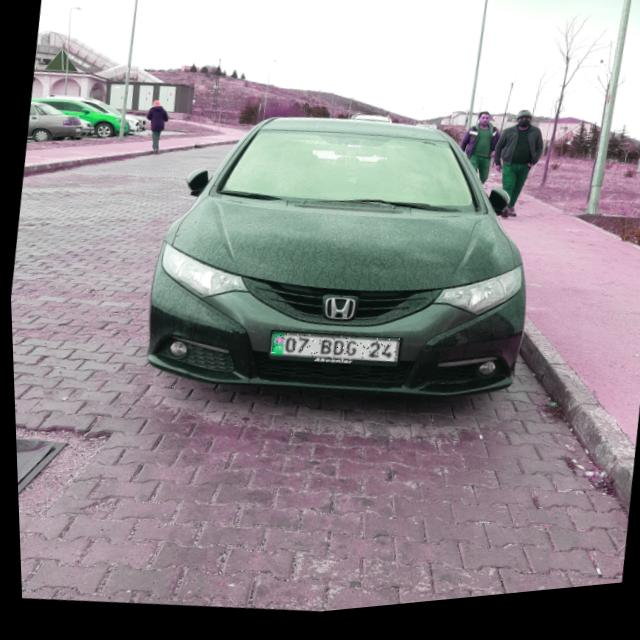license_plate: (267, 329, 398, 379)
